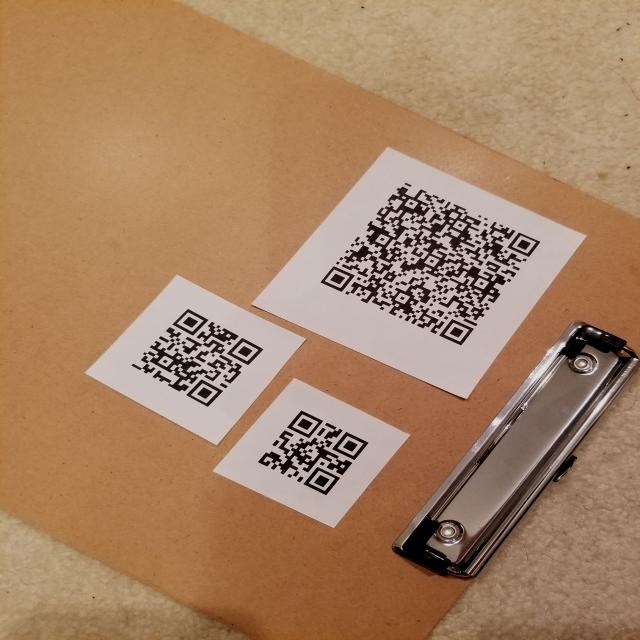QRCode: (314, 168, 548, 360), (120, 300, 271, 414), (248, 391, 384, 504)
